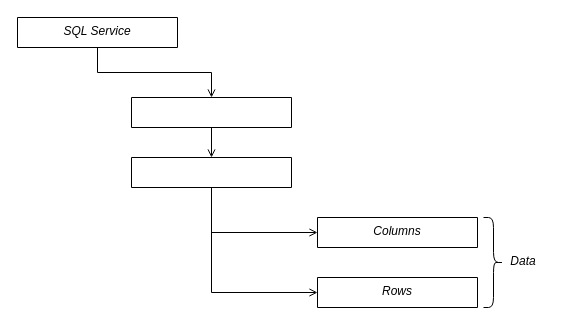
The diagram is 571 pixels wide and 325 high, and some of its shapes have lost their labels. Here are the shapes that lost their labels. From the top down, the centre of each, then its label:
At point (211, 112): "Databases".
At point (211, 172): "Tables".
